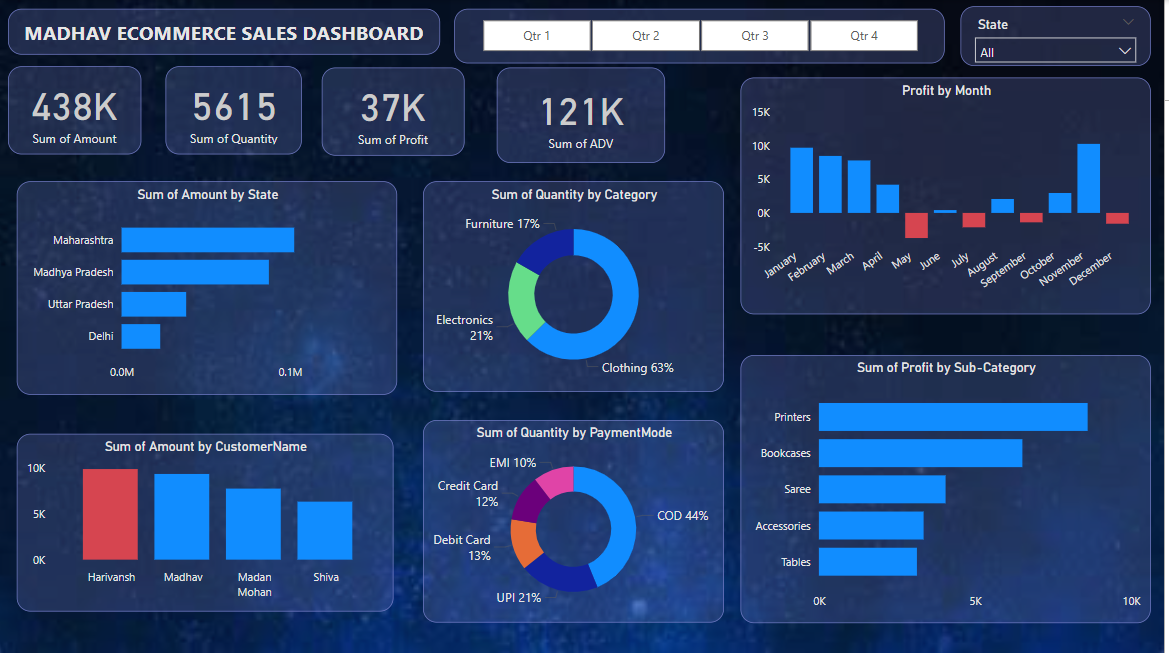

Layout of this report page (visuals, bound fields, positions):
{"tool":"powerbi","page":{"name":"Page 1","canvas":[1280,720],"ordinal":0},"visuals":[{"type":"textbox","box":[10.4,9,474.5,50.7],"z":0},{"type":"columnChart","title":"Profit by Month","fields":{"Y":["Sum(Details.Profit)"],"Category":["Orders.Order Date.Variation.Date Hierarchy.Month"]},"box":[814.7,85.1,450.6,259.6],"z":1000},{"type":"clusteredBarChart","fields":{"Category":["Details.Sub-Category"],"Y":["Sum(Details.Profit)"]},"box":[814.8,389.3,450.5,294.5],"z":2000},{"type":"donutChart","fields":{"Category":["Details.Category"],"Y":["Sum(Details.Quantity)"]},"box":[466.7,198.4,330.7,230.8],"z":3000},{"type":"donutChart","fields":{"Y":["Sum(Details.Quantity)"],"Category":["Details.PaymentMode"]},"box":[466.7,461.7,330.7,222.1],"z":4000},{"type":"card","fields":{"Values":["Sum(Details.Amount)"]},"box":[10.4,73.1,146.2,97],"z":5000},{"type":"card","fields":{"Values":["Sum(Details.Quantity)"]},"box":[183.5,73.1,149.2,97],"z":6000},{"type":"card","fields":{"Values":["Sum(Details.Profit)"]},"box":[355.1,74.6,156.7,97],"z":7000},{"type":"card","fields":{"Values":["Sum(Details.ADV)"]},"box":[547.6,74.6,185,104.5],"z":8000},{"type":"clusteredBarChart","fields":{"Category":["Orders.State"],"Y":["Sum(Details.Amount)"]},"box":[20.9,198.5,417.8,234.3],"z":9000},{"type":"columnChart","fields":{"Category":["Orders.CustomerName"],"Y":["Sum(Details.Amount)"]},"box":[20.9,476,413.3,195.5],"z":10000},{"type":"slicer","fields":{"Values":["Orders.Order Date.Variation.Date Hierarchy.Quarter"]},"box":[501.4,9,538.7,59.7],"z":11000},{"type":"slicer","fields":{"Values":["Orders.State"]},"box":[1056.5,7.5,208.9,65.7],"z":12000}]}

Visuals, with their boxes in screenshot pixels (x1, y1, x2, y2), scaled from the page's 1280x720 canvas onto the 1169x653 screenshot:
textbox: <box>9,8,443,54</box>
"Profit by Month" columnChart: <box>744,77,1156,313</box>
clusteredBarChart - Details.Sub-Category x Sum(Details.Profit): <box>744,353,1156,620</box>
donutChart - Details.Category x Sum(Details.Quantity): <box>426,180,728,389</box>
donutChart - Sum(Details.Quantity) x Details.PaymentMode: <box>426,419,728,620</box>
card - Sum(Details.Amount): <box>9,66,143,154</box>
card - Sum(Details.Quantity): <box>168,66,304,154</box>
card - Sum(Details.Profit): <box>324,68,467,156</box>
card - Sum(Details.ADV): <box>500,68,669,162</box>
clusteredBarChart - Orders.State x Sum(Details.Amount): <box>19,180,401,393</box>
columnChart - Orders.CustomerName x Sum(Details.Amount): <box>19,432,397,609</box>
slicer - Orders.Order Date.Variation.Date Hierarchy.Quarter: <box>458,8,950,62</box>
slicer - Orders.State: <box>965,7,1156,66</box>
